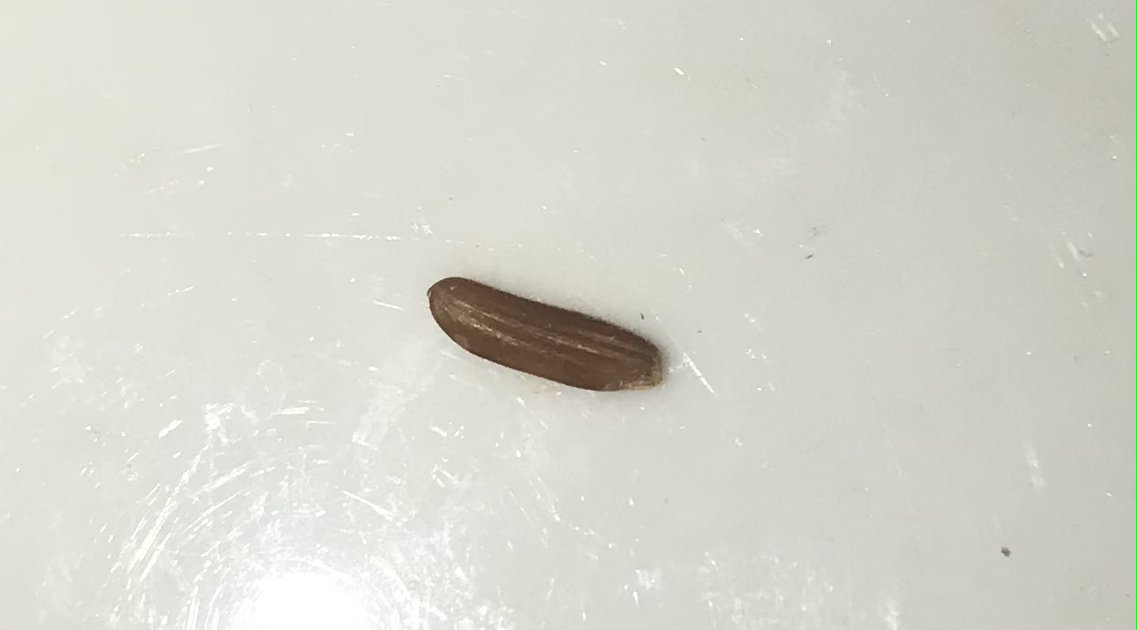Gao Lut Do: (419, 269, 673, 406)
